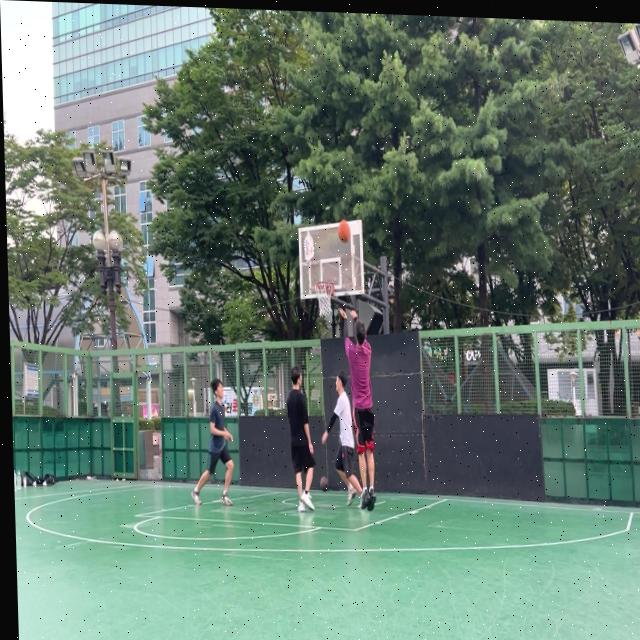basketball: (338, 220, 351, 242), (320, 476, 329, 492)
hoop: (314, 281, 335, 319)
